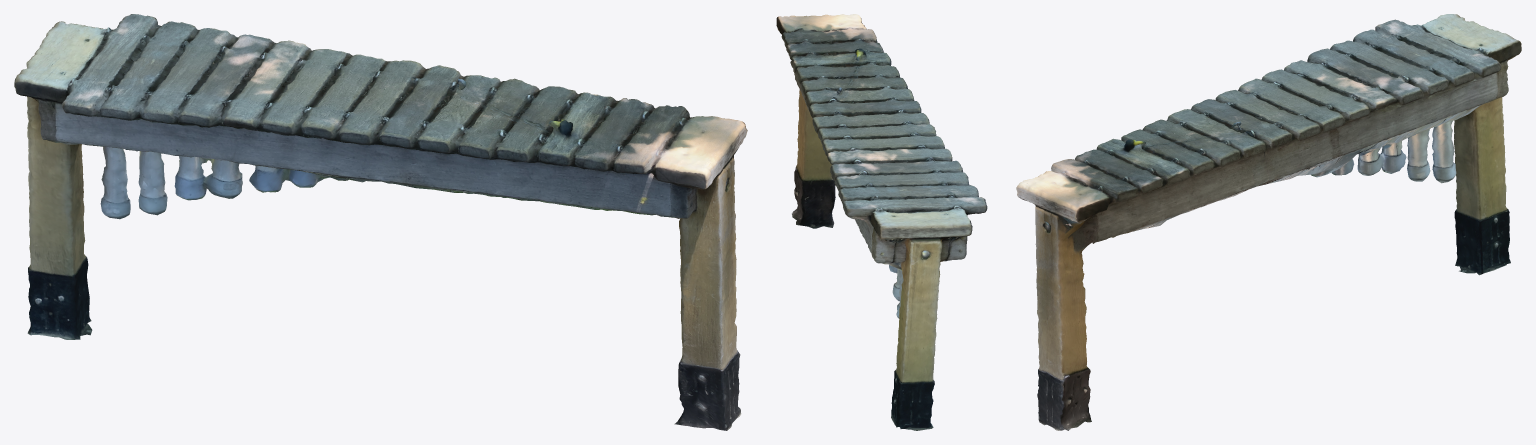
Rendered from compressed_marimba.glb.
The picture shows the model from 3 angles, left to right: view 1: azimuth 30°, elevation 25°; view 2: azimuth 150°, elevation 25°; view 3: azimuth 270°, elevation 25°; orthographic projection. The views are drawn at different scales.
Visible parts, largest first — view 1: Object_2; view 2: Object_2; view 3: Object_2.
Part boxes in pixels (left/top/right/bottom): Object_2: left=14, top=14, right=747, bottom=430; Object_2: left=776, top=14, right=987, bottom=430; Object_2: left=1016, top=14, right=1521, bottom=430.
Size of the model in its own units: 5.5 by 3.11 by 5.87.
Materials: 1 (1 with a texture image).
